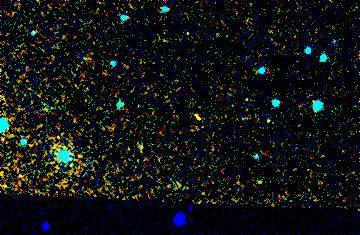star: (180, 100, 210, 130)
